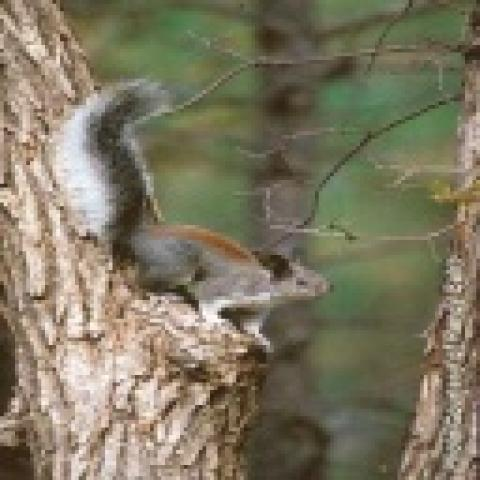small_animal: (45, 71, 330, 334)
